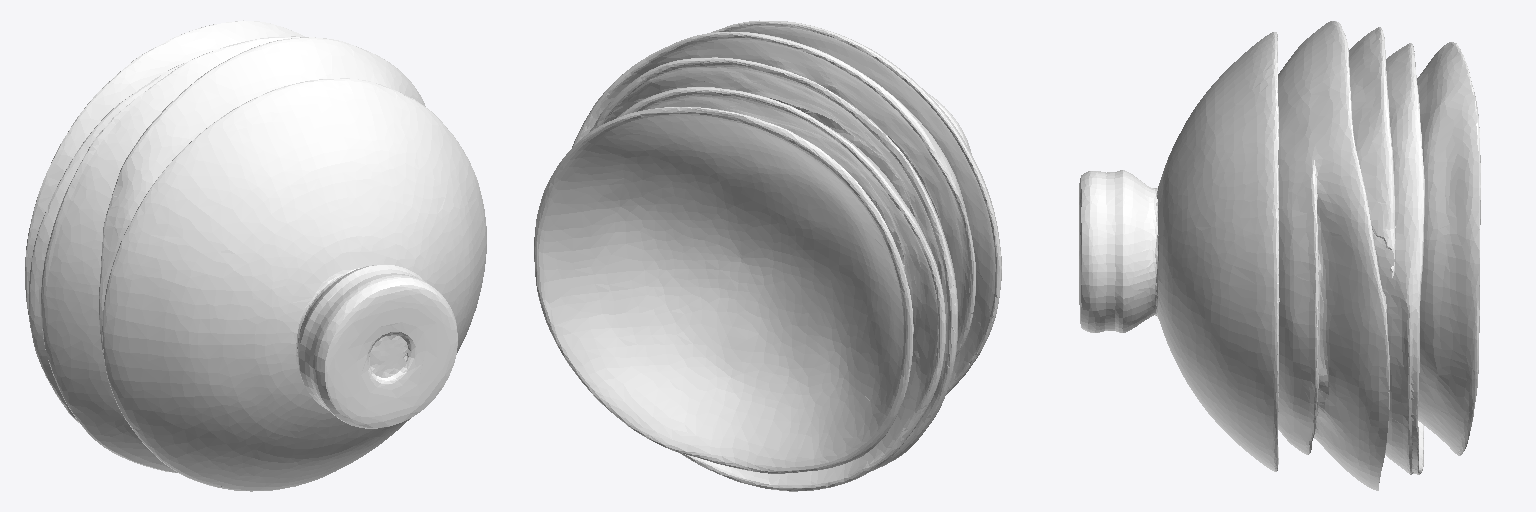
robot.urdf — stacked_bowls:
<?xml version="1.0" ?>
<robot name="stacked_bowls">
    <link name="baseLink">
        <contact>
        <friction_anchor/>
        <lateral_friction value="1.5"/>
        <rolling_friction value="0.1"/>
        <spinning_friction value="0.1"/>
        <contact_cfm value="1e-5"/>
        <contact_erp value="0.8"/>
        </contact>
        <visual>
            <origin rpy="0 0 0" xyz="0 0 0"/>
            <geometry>
                <mesh filename="assets/objects/stacked_bowls/meshes/stacked_bowls_textured.obj" scale="1 1 1"/>
            </geometry>
            <material name="white">
                <color rgba="1 1 1 1"/>
            </material>
        </visual>
        <collision>
            <origin rpy="0 0 0" xyz="0 0 0"/>
            <geometry>
                <mesh filename="assets/objects/stacked_bowls/meshes/stacked_bowls_textured.obj" scale="1 1 1"/>
            </geometry>
        </collision>
        <inertial>
            <origin rpy="0 0 0" xyz="0 0 0"/>
            <mass value="1.0"/>
            <inertia ixx="0.1" ixy="0" ixz="0" iyy="0.1" iyz="0" izz="0.1"/>
        </inertial>
    </link>
</robot>

--- Facts derived from the render (not from the file) ---
Views: 3 orthographic renders of the robot side by side, from view 1: azimuth 30°, elevation 25°; view 2: azimuth 150°, elevation 25°; view 3: azimuth 270°, elevation 25°.
Robot: stacked_bowls — 1 links, 0 joints (none); root link baseLink; default pose: all joints at 0.
Visible links, largest first — view 1: baseLink; view 2: baseLink; view 3: baseLink.
Boxes of the visible links, bbox=[...] form: baseLink: bbox=[25, 20, 486, 491]; baseLink: bbox=[534, 20, 1001, 491]; baseLink: bbox=[1079, 21, 1480, 490].
Size in the robot's own frame: 0.7789 by 0.6741 by 0.7978 metres.
Meshes: 1 distinct files referenced, 1 mesh visuals loaded (1 OBJ).
